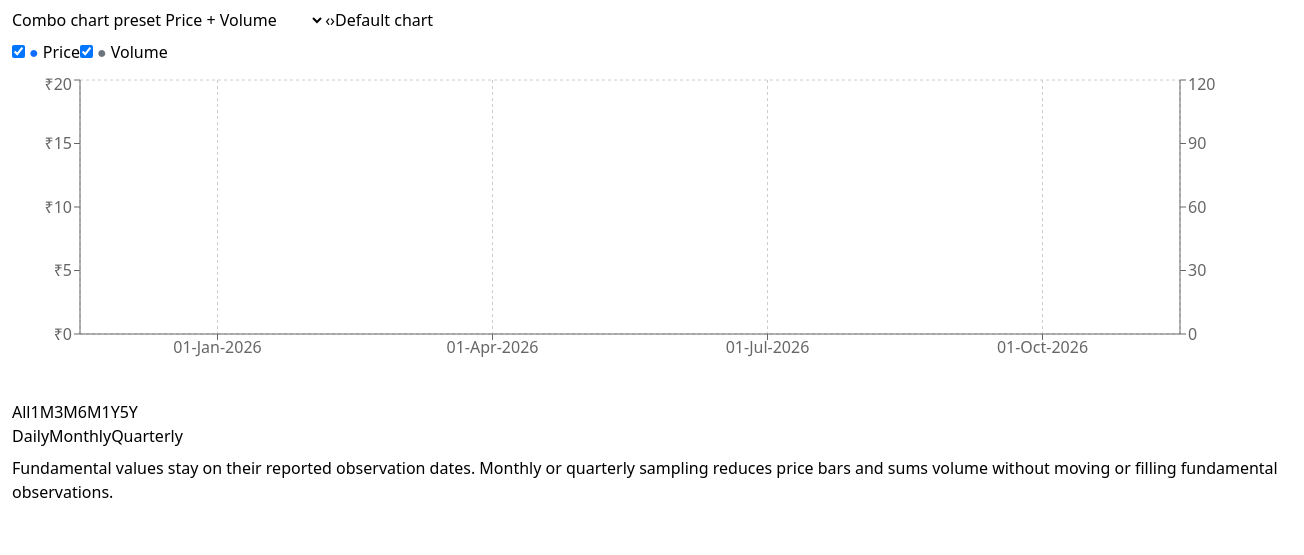
dashboard and combo chart recovery › retains the selected chart and shows the canonical error after a rejected account default write
Expected: the button "Default chart" is disabled, [335, 8, 433, 32]
Select "Price + P/E" in the dropdown labelled "Combo chart preset": (243, 20) [161, 8, 325, 32]
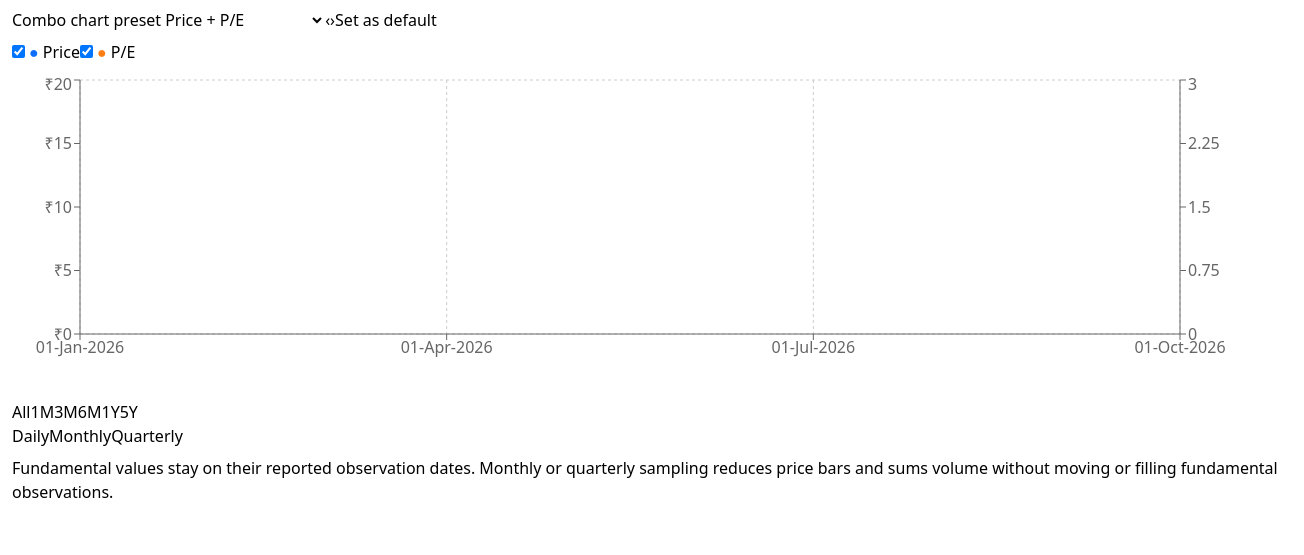
Click the button "Set as default": (386, 20) [335, 8, 437, 32]
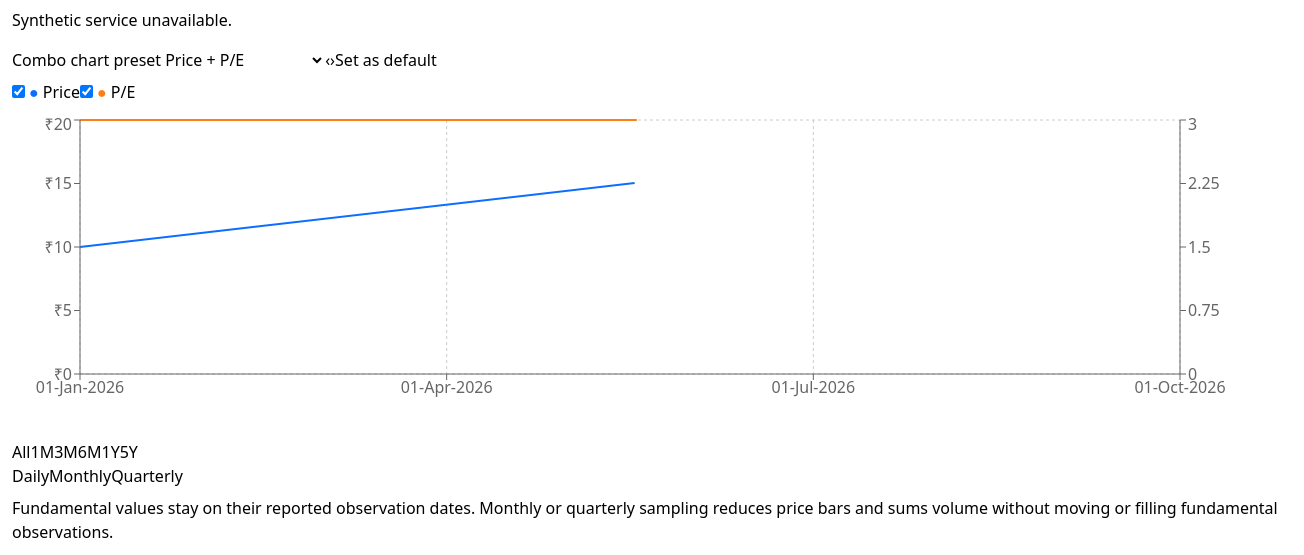
Result: the button "Set as default" is enabled at [335, 48, 437, 72]
Result: the text "Synthetic service unavailable." is shown at [12, 9, 232, 31]
